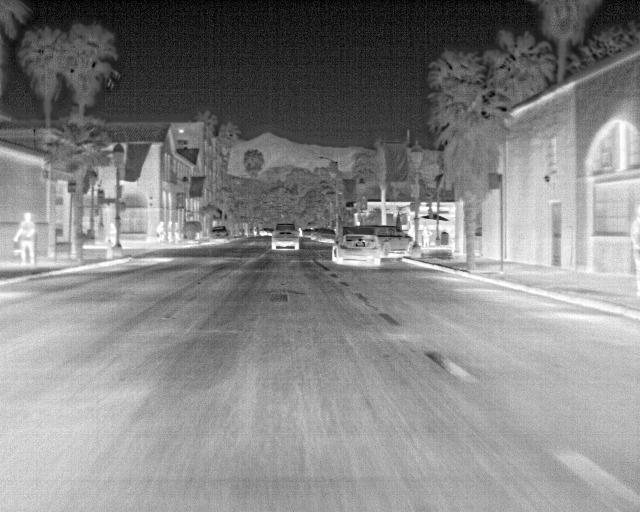bicycle: (344, 223, 422, 259), (329, 232, 384, 269), (270, 228, 301, 250), (209, 225, 230, 245), (314, 226, 336, 243)
empty: (11, 211, 39, 265), (154, 220, 168, 243)
